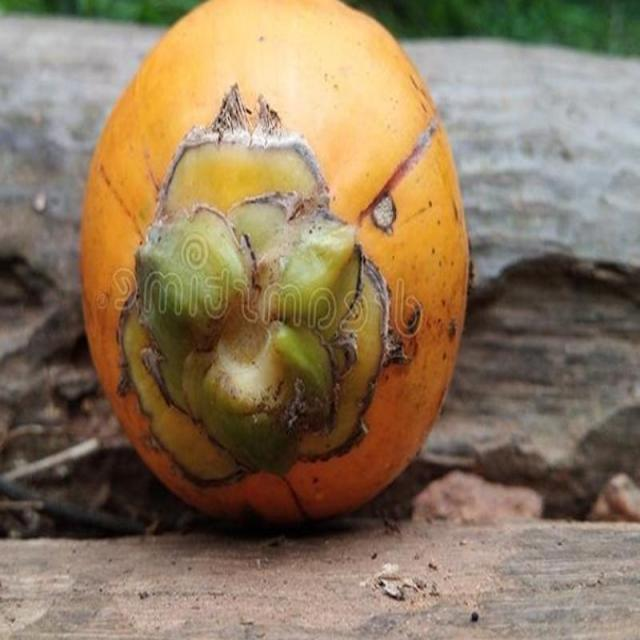good: (79, 0, 471, 532)
